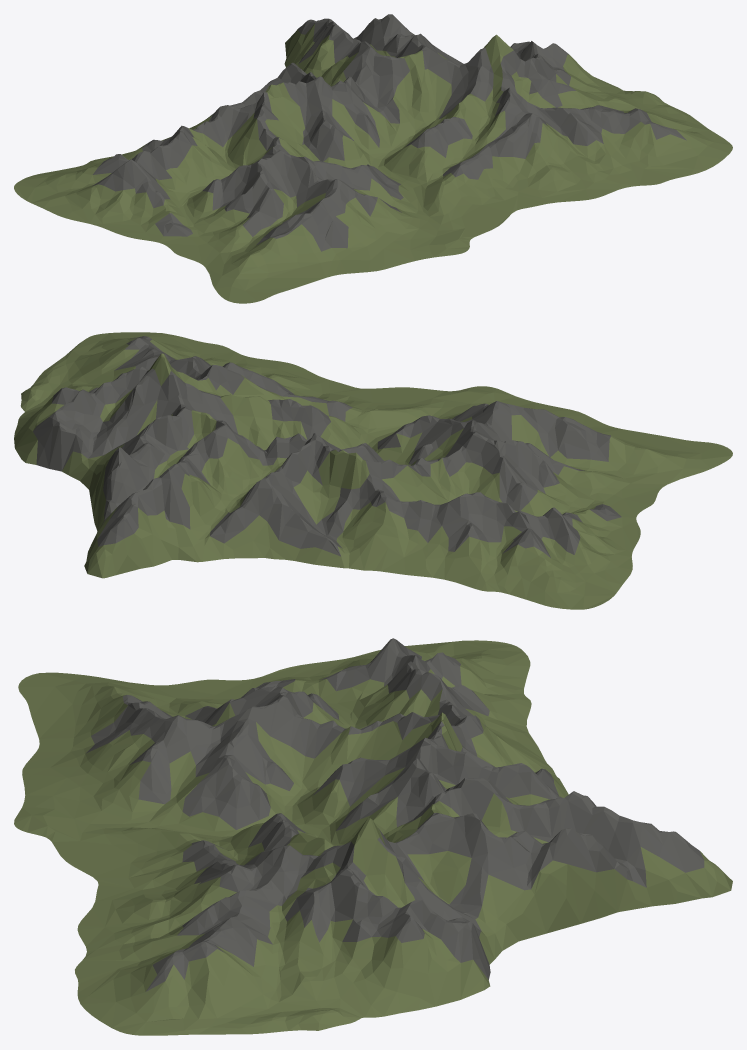
File: SM_Envr_Nature_Mountain_07.fbx
3 views of the same model, one above another, from view 1: azimuth 30°, elevation 25°; view 2: azimuth 150°, elevation 25°; view 3: azimuth 270°, elevation 25° (orthographic). The views are drawn at different scales.
Parts seen in each view (by area): view 1: SM_Envr_Nature_Mountain_07; view 2: SM_Envr_Nature_Mountain_07; view 3: SM_Envr_Nature_Mountain_07.
Boxes of the visible parts, x1,y1,x2,y2 form: SM_Envr_Nature_Mountain_07: [14, 14, 732, 303]; SM_Envr_Nature_Mountain_07: [14, 332, 732, 609]; SM_Envr_Nature_Mountain_07: [14, 638, 732, 1035].
Bounding box in the file's own units: 123286 × 16959 × 94782.
